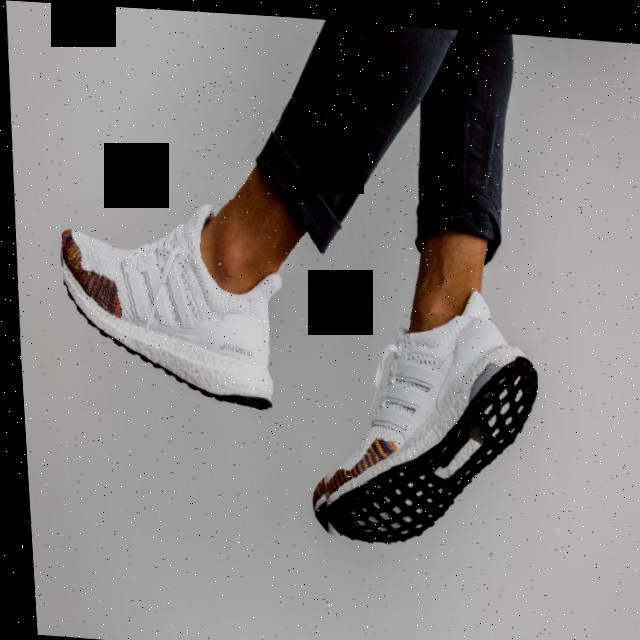shoe: (300, 300, 544, 579), (53, 185, 324, 424)
